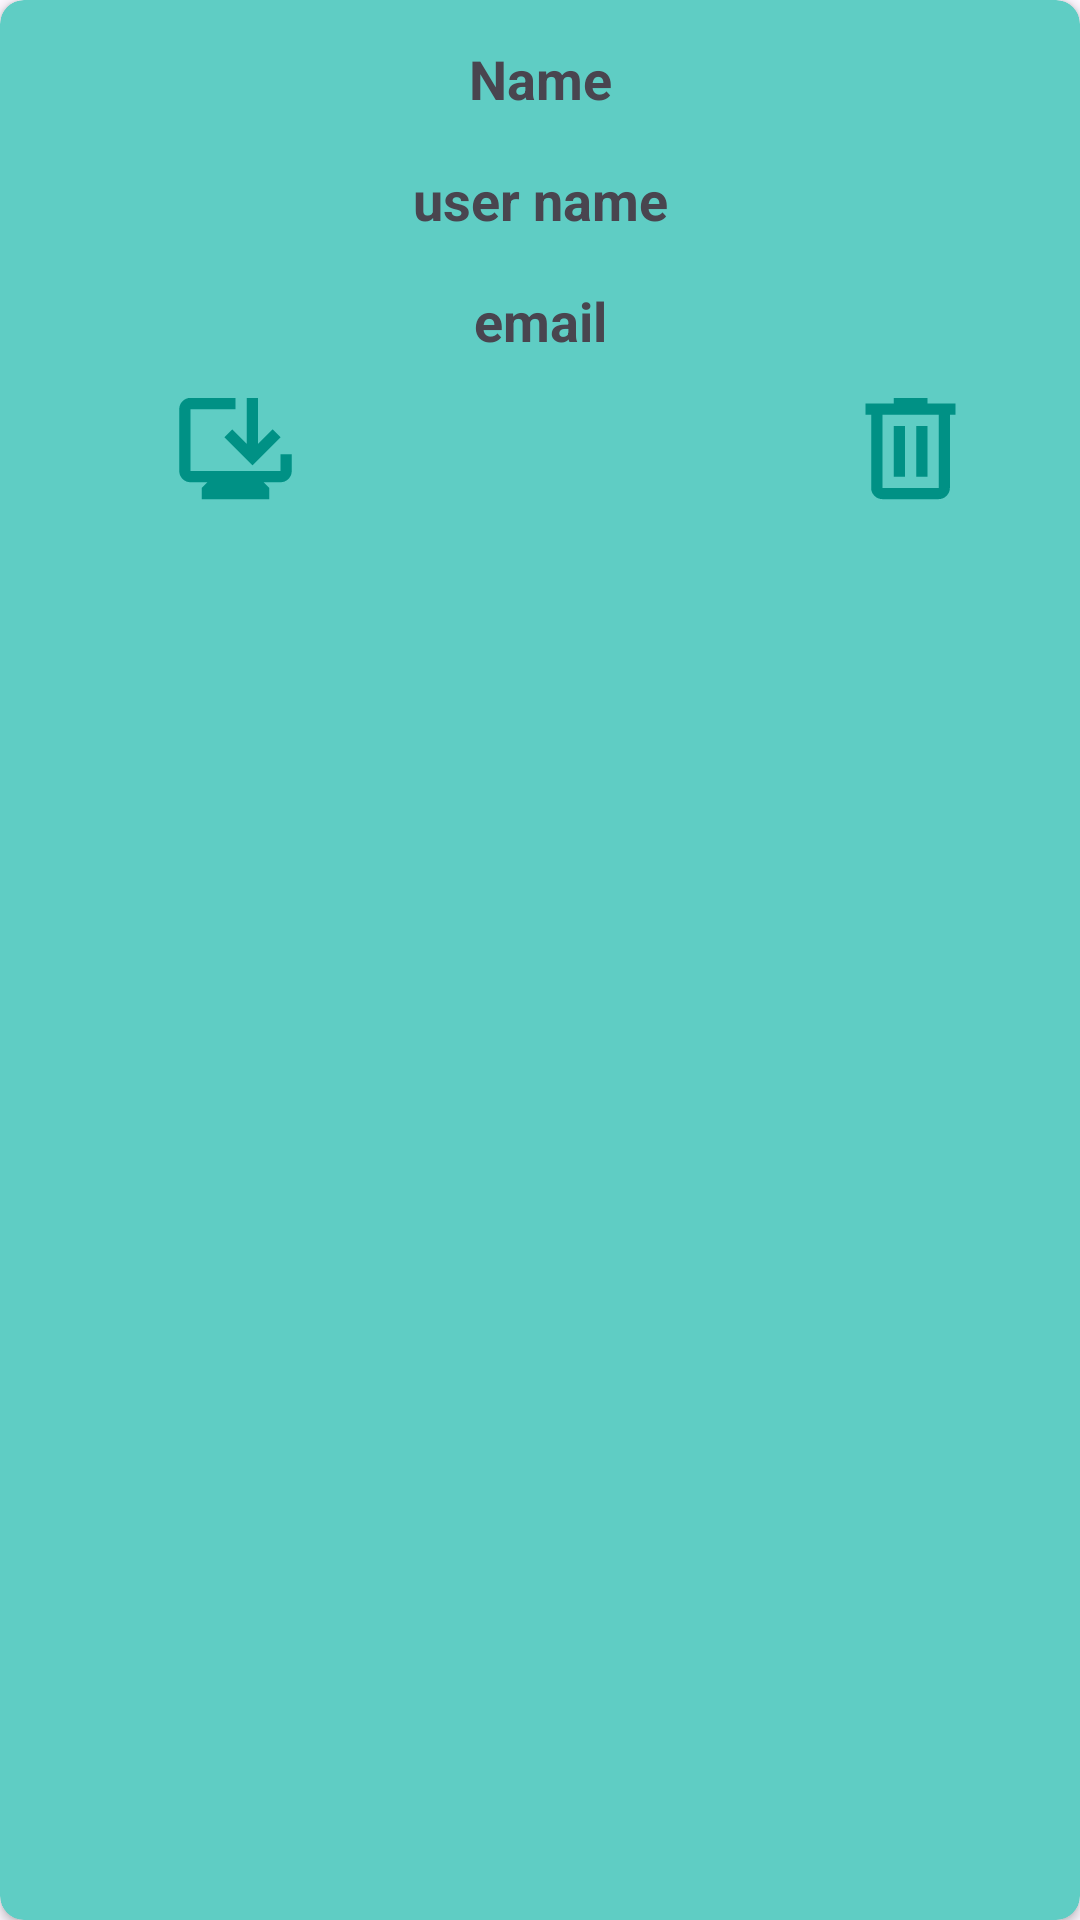

Where to tap for icons on this 1080px×1920px app screen, as (x,y):
browser updated: (235,448)
delete: (910,448)
